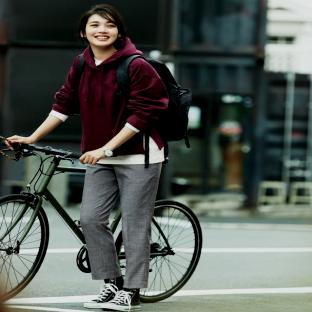Human: (6, 4, 169, 311)
